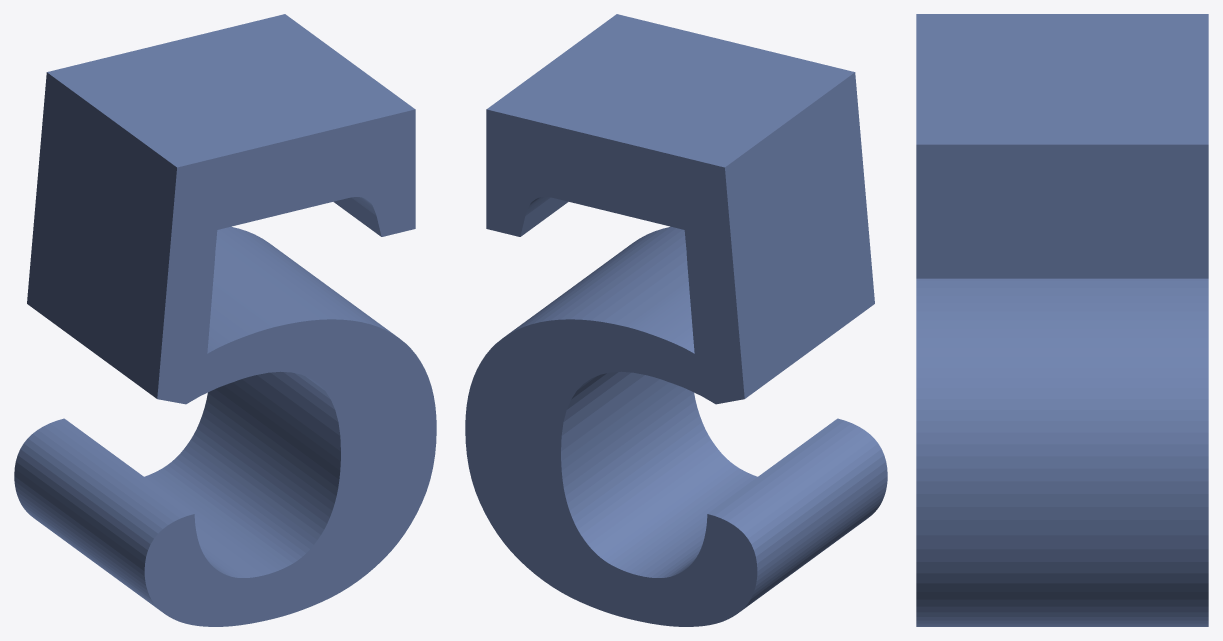
The model's file is number5.glb.
3 renders of one model, left to right at view 1: azimuth 30°, elevation 25°; view 2: azimuth 150°, elevation 25°; view 3: azimuth 270°, elevation 25°, orthographic. The views are drawn at different scales.
Parts seen in each view (by area): view 1: Mesh_Mesh_head_geo.001_lambert2SG.001; view 2: Mesh_Mesh_head_geo.001_lambert2SG.001; view 3: Mesh_Mesh_head_geo.001_lambert2SG.001.
Boxes of the visible parts, box(x1,y1,x2,y2) form: Mesh_Mesh_head_geo.001_lambert2SG.001: box(14, 14, 436, 626); Mesh_Mesh_head_geo.001_lambert2SG.001: box(465, 14, 887, 626); Mesh_Mesh_head_geo.001_lambert2SG.001: box(916, 14, 1208, 626).
Bounding box in the file's own units: 12.94 × 20.1 × 10.
